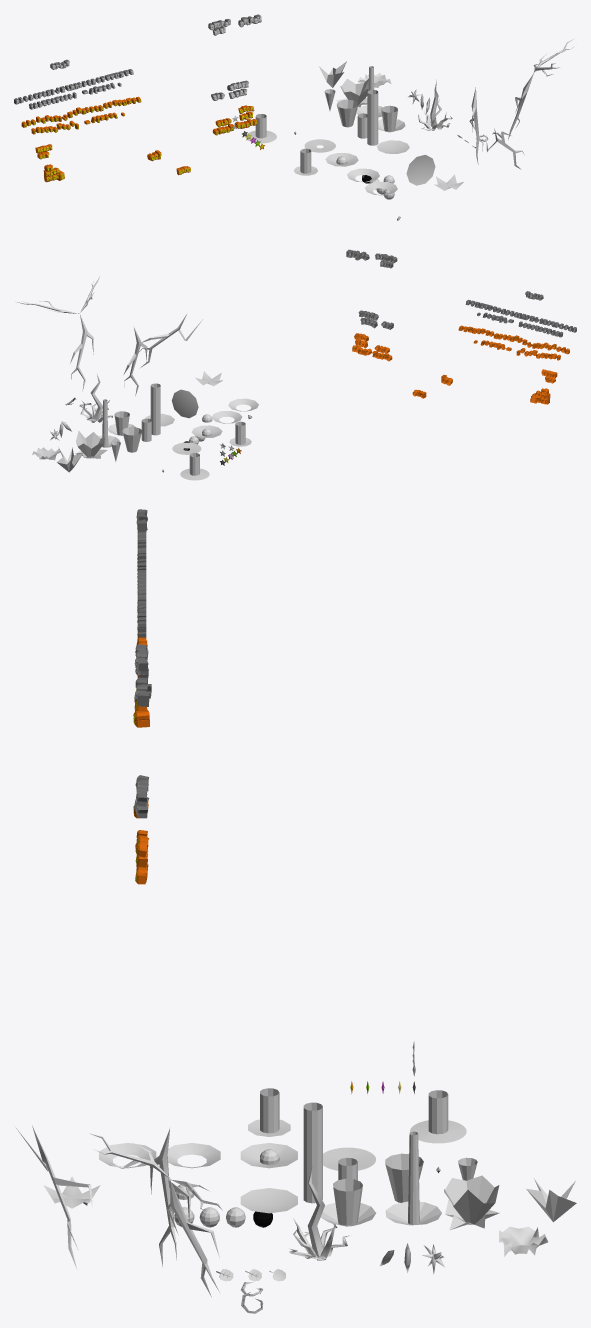
File: FX Mega Pack 2 MDL.fbx
The picture shows the model from 3 angles, top to bottom: view 1: azimuth 30°, elevation 25°; view 2: azimuth 150°, elevation 25°; view 3: azimuth 270°, elevation 25°; orthographic projection. The views are drawn at different scales.
Parts seen in each view (by area): view 1: GlowMesh10tris, PulseBeamMesh17, LightningMesh14, PulseBeamMesh14, PulseBeamMesh4, PulseWaveBeamMesh2, PulseBeamMesh1, PulseWaveBeamMesh, PulseWaveMesh5, PulseWaveMesh, PulseWaveMesh3, LightningMesh6 (+6 smaller); view 2: LightningMesh14, PulseBeamMesh14, GlowMesh10tris, PulseBeamMesh17, PulseWaveBeamMesh2, PulseBeamMesh1, PulseBeamMesh4, LightningMesh7, PulseBeamMesh13, LightningMesh6, PulseWaveBeamMesh, PulseWaveMesh; view 3: PulseBeamMesh14, LightningMesh14, PulseBeamMesh17, PulseBeamMesh13, PulseBeamMesh4, PulseWaveBeamMesh2, PulseWaveBeamMesh, PulseWaveMesh5, PulseWaveMesh, LightningMesh6, PulseBeamMesh1, PulseBeamMesh16.
Part boxes in pixels (x1,y1,x2,y2): GlowMesh10tris: (406,154,435,185); PulseBeamMesh17: (367,90,378,145); LightningMesh14: (508,39,574,139); PulseBeamMesh14: (336,78,368,107); PulseBeamMesh4: (378,105,405,132); PulseWaveBeamMesh2: (245,114,276,143); PulseBeamMesh1: (337,99,358,127); PulseWaveBeamMesh: (293,148,317,175); PulseWaveMesh5: (376,140,409,153); PulseWaveMesh: (325,153,358,166); PulseWaveMesh3: (304,139,335,152); LightningMesh6: (469,87,483,164); LightningMesh14: (15,275,100,391); PulseBeamMesh14: (75,430,107,458); GlowMesh10tris: (171,389,198,418); PulseBeamMesh17: (150,383,160,435); PulseWaveBeamMesh2: (180,453,209,480); PulseBeamMesh1: (122,427,141,452); PulseBeamMesh4: (108,411,135,435); LightningMesh7: (139,313,202,368); PulseBeamMesh13: (98,399,119,447); LightningMesh6: (123,327,147,396); PulseWaveBeamMesh: (229,421,251,446); PulseWaveMesh: (191,425,222,438); PulseBeamMesh14: (444,1175,499,1230); LightningMesh14: (89,1133,222,1297); PulseBeamMesh17: (303,1102,322,1203); PulseBeamMesh13: (385,1131,441,1225); PulseBeamMesh4: (321,1178,375,1226); PulseWaveBeamMesh2: (410,1090,466,1143); PulseWaveBeamMesh: (248,1088,290,1136); PulseWaveMesh5: (240,1188,297,1213); PulseWaveMesh: (240,1143,297,1168); LightningMesh6: (150,1129,190,1266); PulseBeamMesh1: (385,1153,423,1202); PulseBeamMesh16: (499,1226,548,1256).
Bounding box in the file's own units: 2847 × 1078 × 1322.
